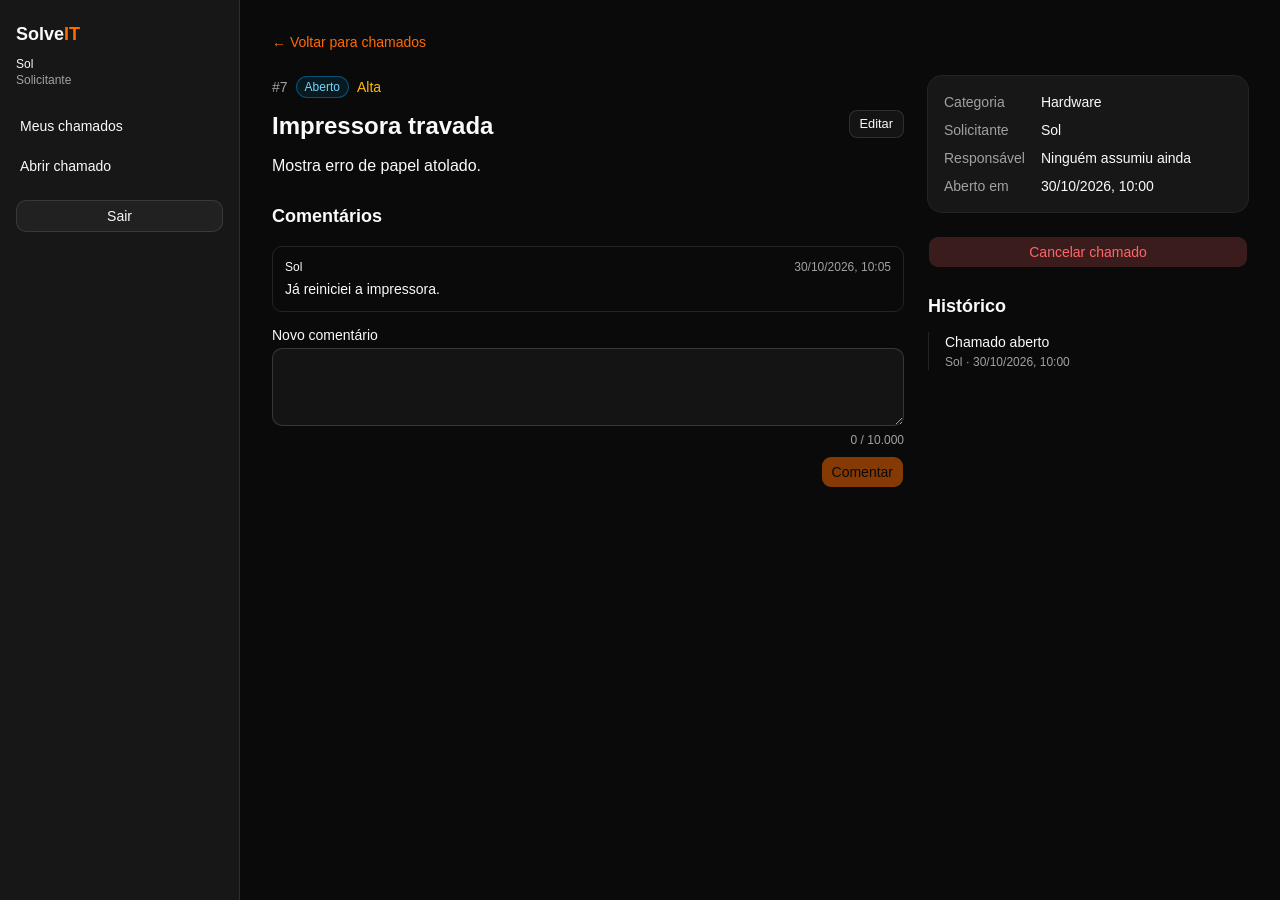
comentar e agir › adiciona o comentário à conversa
In the text box labelled "Novo comentário": point(588, 387) [272,348,904,426], type "Ainda não funcionou."
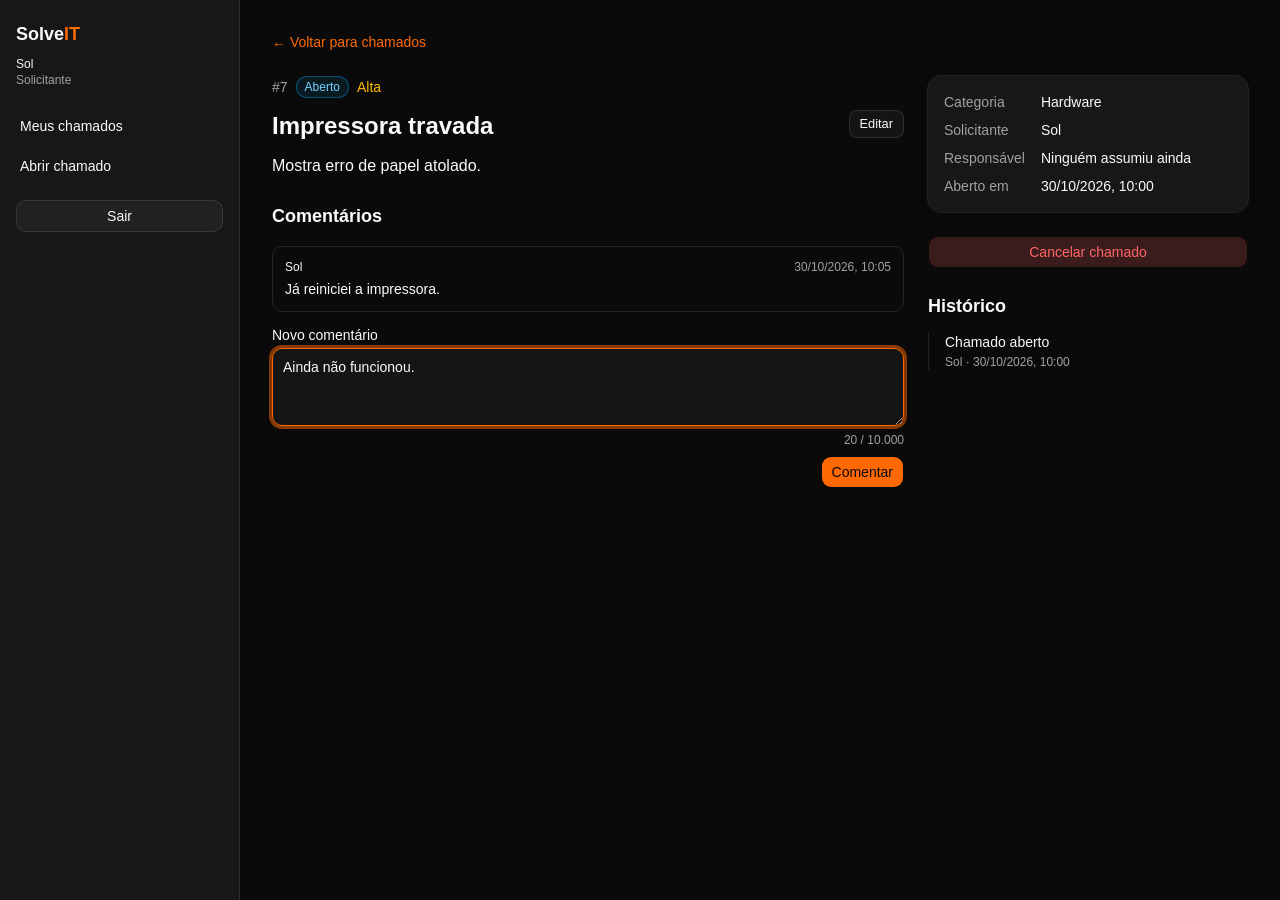
Click the button "Comentar": point(862, 472) [820,456,904,488]
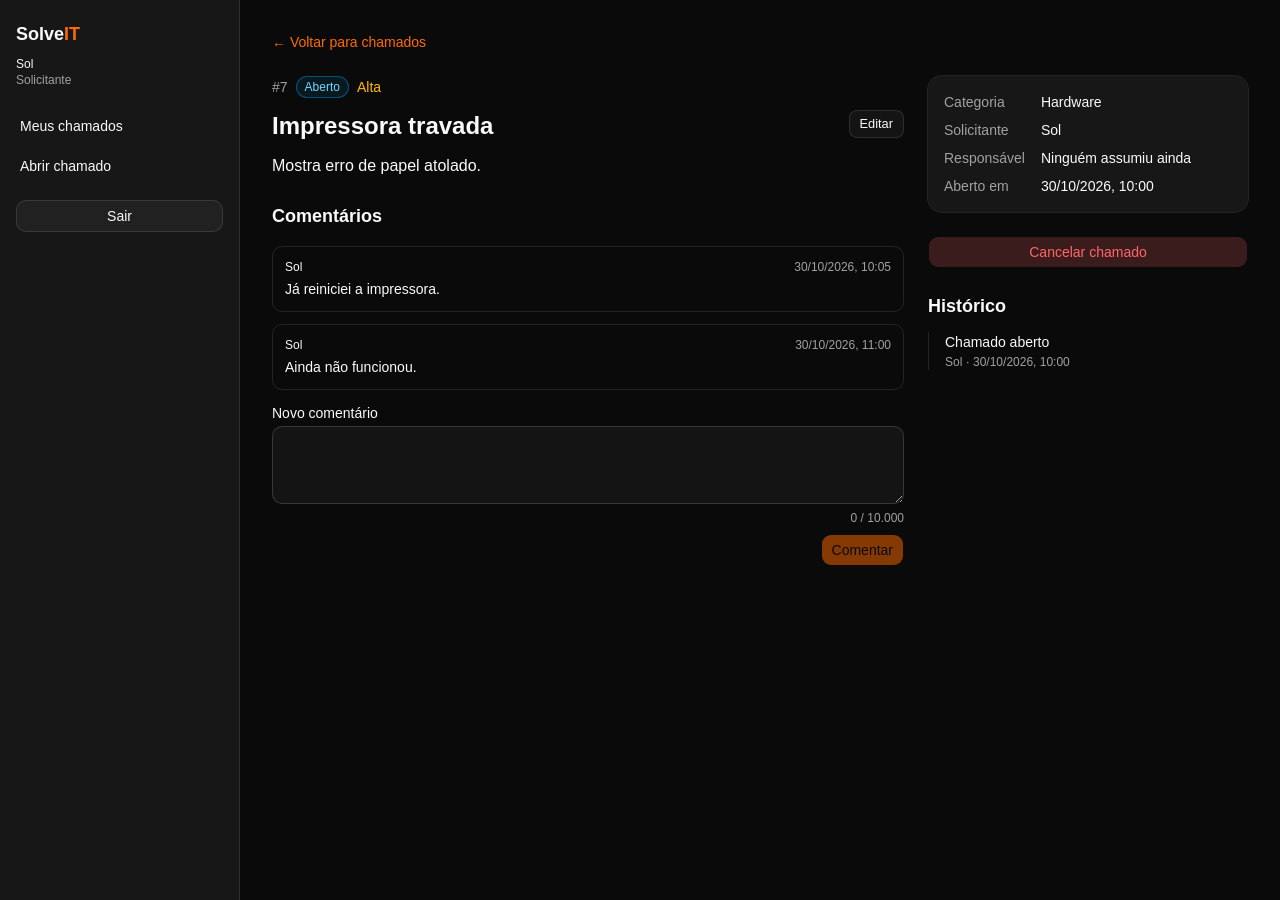
Expected: the text "Ainda não funcionou." is shown, [285,359,417,375]
Expected: the text box labelled "Novo comentário" is empty, [272,426,904,504]
